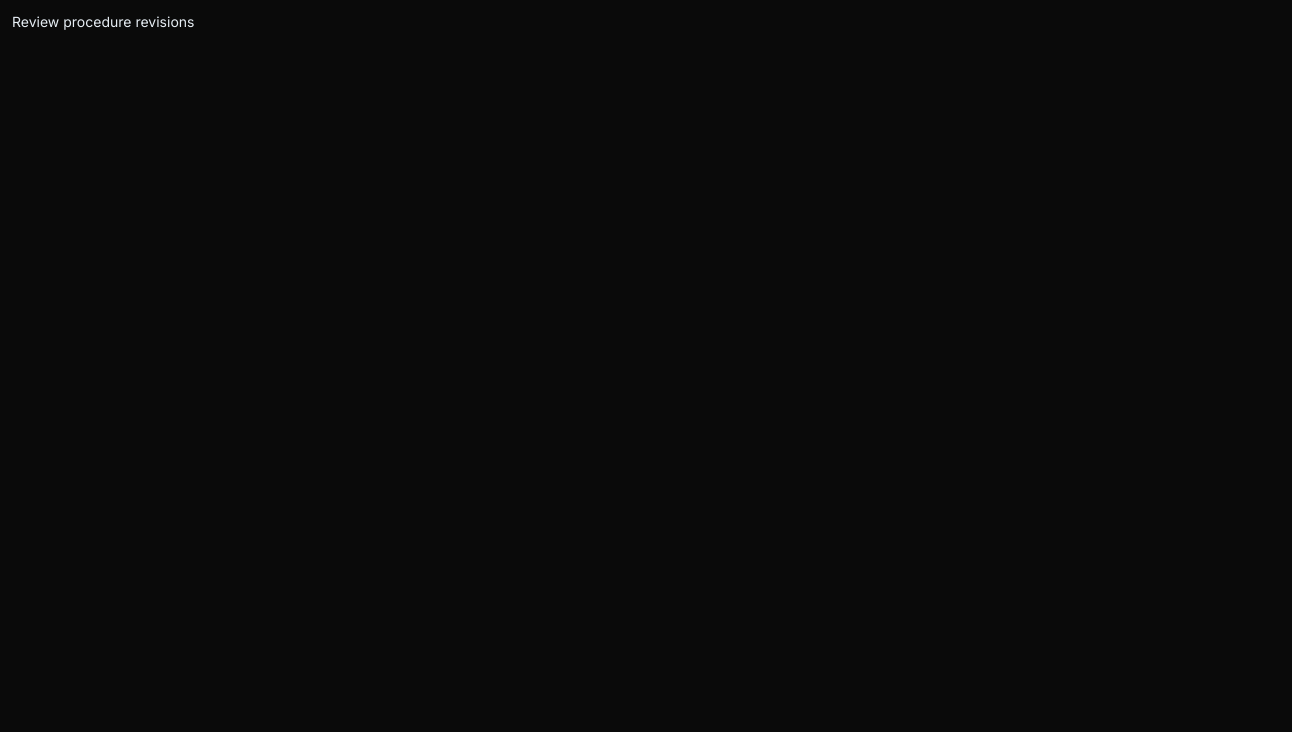
Test case: loads beyond the first page without dropping older revision decisions
Click the button "Review procedure revisions": (103, 22) [12,12,194,32]
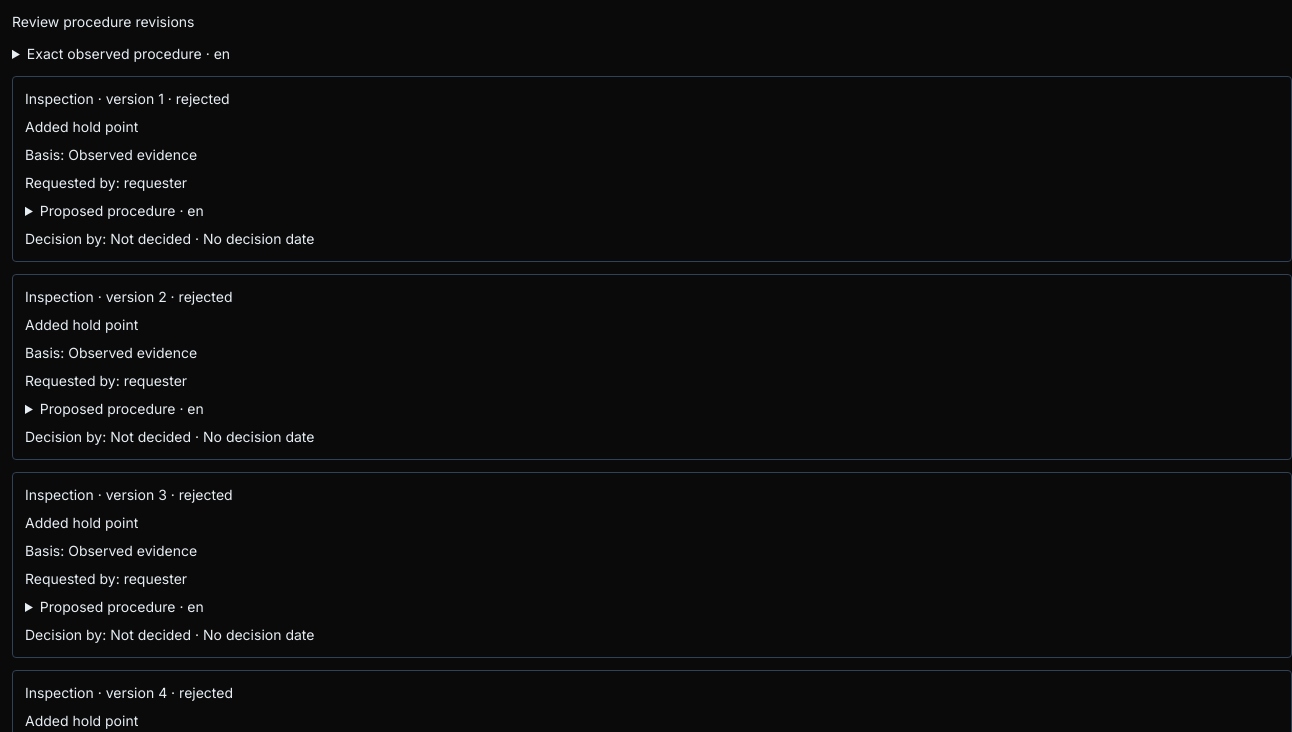
Result: the heading "Inspection · version 1 · rejected" is shown at [25,90,230,107]
